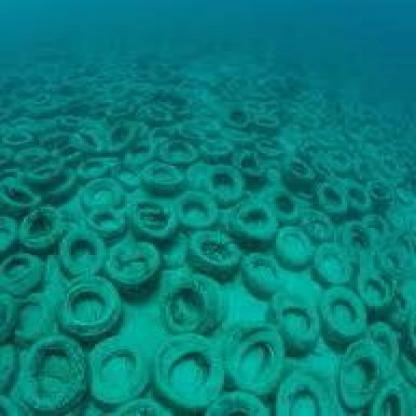tire: (35, 260, 132, 336), (186, 150, 294, 215), (151, 340, 233, 411), (82, 335, 159, 397), (235, 326, 304, 394), (22, 338, 90, 406), (228, 198, 298, 255), (190, 231, 239, 276), (89, 172, 128, 212)
